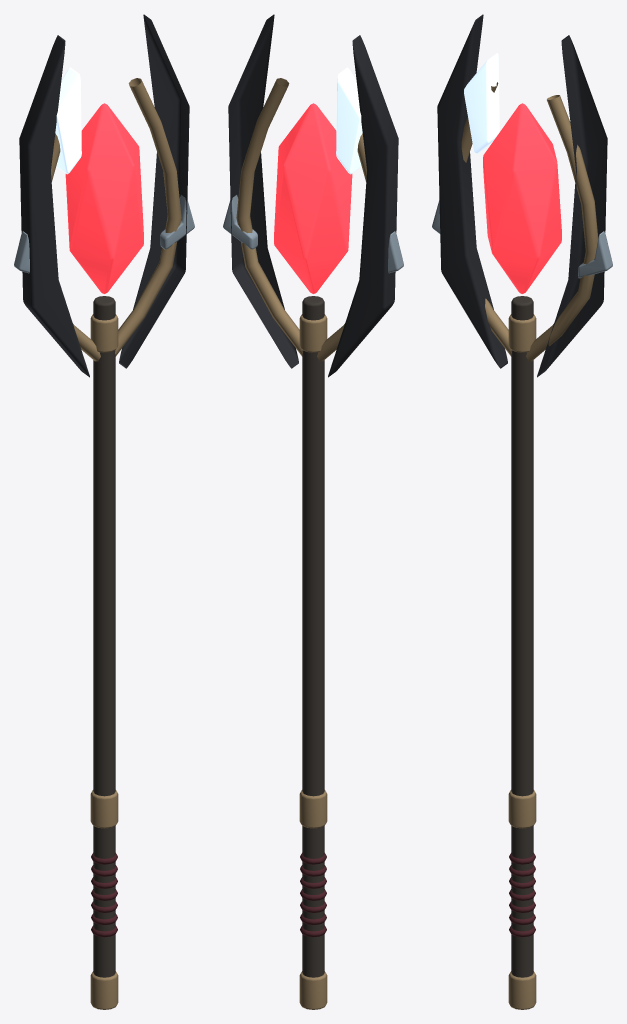
The model's file is rift-shepherd.glb.
3 views of the same model, side by side, from view 1: azimuth 30°, elevation 25°; view 2: azimuth 150°, elevation 25°; view 3: azimuth 330°, elevation 25° (orthographic).
Visible parts, largest first — view 1: Walnut haft.006, Faceted spirit crystal.004, Fractured staff spire, Fractured staff spire.001, Crystal prong.001, Floating fracture shard, Brass ferrule.018, Brass ferrule.019, Brass ferrule.020, Forged hooked thorn.037, Crystal prong, Forged hooked thorn.036; view 2: Walnut haft.006, Faceted spirit crystal.004, Fractured staff spire, Fractured staff spire.001, Crystal prong.001, Floating fracture shard, Brass ferrule.018, Brass ferrule.019, Brass ferrule.020, Forged hooked thorn.037, Crystal prong, Forged hooked thorn.036; view 3: Walnut haft.006, Faceted spirit crystal.004, Fractured staff spire, Fractured staff spire.001, Crystal prong.001, Floating fracture shard, Crystal prong, Brass ferrule.018, Brass ferrule.019, Brass ferrule.020, Forged hooked thorn.037.
Part boxes in pixels (x1,y1,x2,y2): Walnut haft.006: [93, 296, 115, 977]; Faceted spirit crystal.004: [65, 103, 143, 293]; Fractured staff spire: [19, 35, 89, 377]; Fractured staff spire.001: [119, 14, 189, 368]; Crystal prong.001: [115, 78, 181, 356]; Floating fracture shard: [55, 67, 81, 174]; Brass ferrule.018: [90, 971, 118, 1009]; Brass ferrule.019: [90, 790, 118, 828]; Brass ferrule.020: [90, 314, 118, 352]; Forged hooked thorn.037: [160, 195, 194, 249]; Crystal prong: [51, 133, 100, 361]; Forged hooked thorn.036: [14, 231, 29, 273]; Walnut haft.006: [302, 296, 324, 977]; Faceted spirit crystal.004: [274, 103, 352, 293]; Fractured staff spire: [328, 35, 398, 377]; Fractured staff spire.001: [228, 14, 298, 368]; Crystal prong.001: [236, 78, 302, 356]; Floating fracture shard: [336, 67, 362, 174]; Brass ferrule.018: [299, 971, 327, 1009]; Brass ferrule.019: [299, 790, 327, 828]; Brass ferrule.020: [299, 314, 327, 352]; Forged hooked thorn.037: [223, 195, 257, 249]; Crystal prong: [317, 133, 366, 361]; Forged hooked thorn.036: [388, 231, 403, 273]; Walnut haft.006: [511, 296, 533, 977]; Faceted spirit crystal.004: [483, 103, 561, 293]; Fractured staff spire: [437, 14, 507, 368]; Fractured staff spire.001: [537, 35, 607, 377]; Crystal prong.001: [526, 95, 598, 361]; Floating fracture shard: [464, 53, 499, 153]; Crystal prong: [461, 82, 511, 356]; Brass ferrule.018: [508, 971, 536, 1009]; Brass ferrule.019: [508, 790, 536, 828]; Brass ferrule.020: [508, 314, 536, 352]; Forged hooked thorn.037: [578, 231, 612, 278].
Bounding box in the file's own units: 0.4566 × 2.43 × 0.1713.
